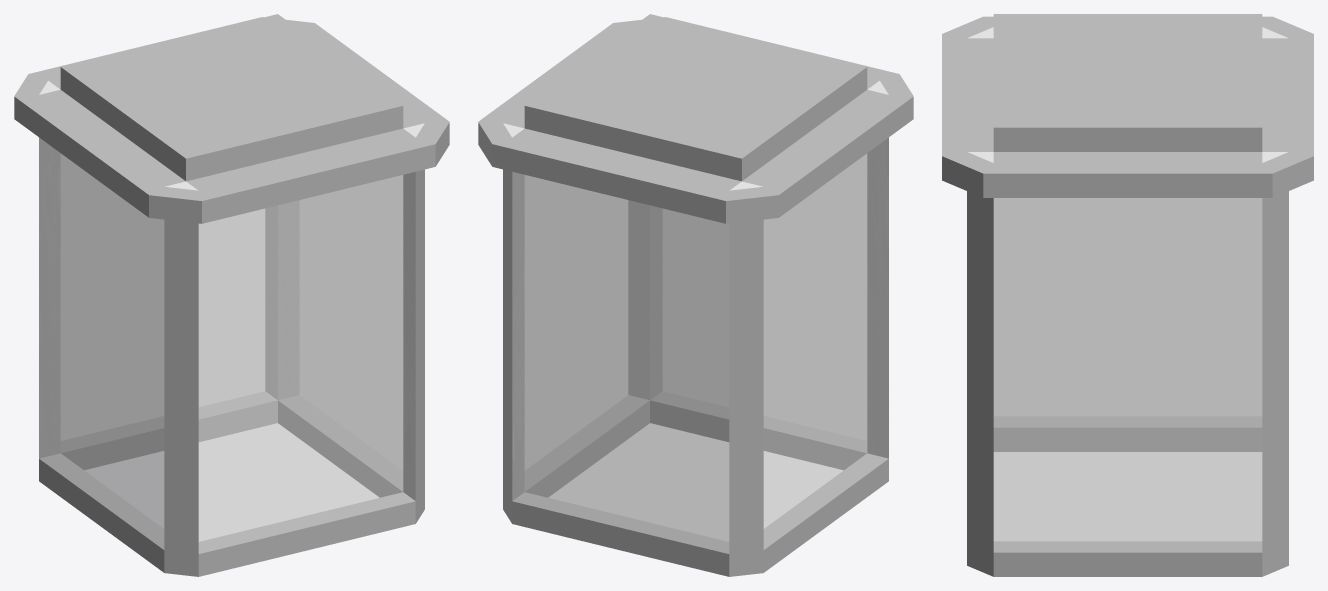
File: Server-Stack-Type-1.obj
The picture shows the model from 3 angles, left to right: view 1: azimuth 30°, elevation 25°; view 2: azimuth 150°, elevation 25°; view 3: azimuth 270°, elevation 25°; orthographic projection. The views are drawn at different scales.
Visible parts, largest first — view 1: Server-Stack-Type-1; view 2: Server-Stack-Type-1; view 3: Server-Stack-Type-1.
Boxes of the visible parts, bbox=[...] form: Server-Stack-Type-1: bbox=[14, 14, 449, 576]; Server-Stack-Type-1: bbox=[478, 14, 913, 576]; Server-Stack-Type-1: bbox=[942, 14, 1313, 576].
Size of the model in its own units: 1.38 by 1.8 by 1.38.
